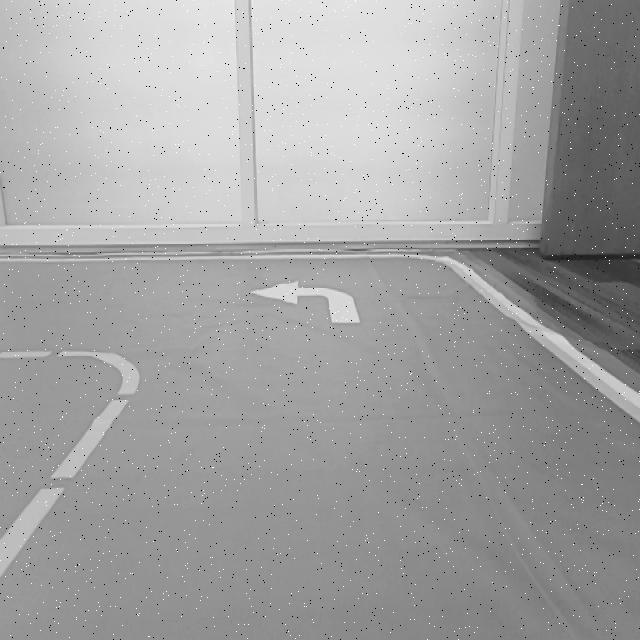left_lane: (0, 380, 142, 584)
right_lane: (448, 262, 640, 424)
